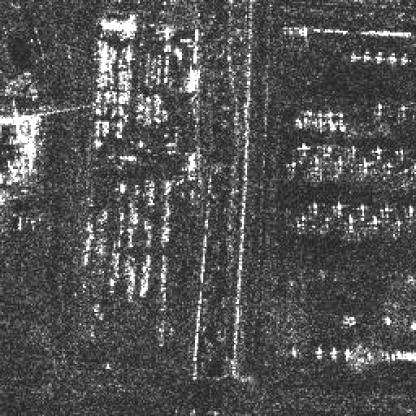airplane: (294, 143, 312, 156), (292, 213, 310, 226), (308, 158, 322, 174), (396, 104, 410, 119), (370, 146, 384, 161), (359, 160, 371, 176), (393, 218, 405, 234), (369, 213, 382, 227), (380, 203, 392, 218), (404, 202, 414, 220), (398, 52, 411, 65), (284, 158, 298, 170), (332, 158, 344, 172), (380, 315, 394, 327), (322, 144, 333, 158), (394, 150, 406, 162), (331, 202, 343, 214), (358, 202, 367, 218), (374, 101, 384, 115), (326, 344, 336, 358), (384, 162, 393, 176), (374, 50, 384, 62), (320, 216, 330, 228), (314, 346, 324, 358), (350, 146, 358, 160), (387, 50, 396, 62), (309, 202, 318, 214), (342, 346, 350, 359), (362, 49, 370, 60), (408, 162, 414, 176), (348, 213, 356, 223), (349, 54, 359, 60)
